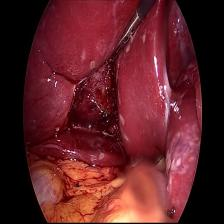Grasper: (107, 5, 146, 65)
